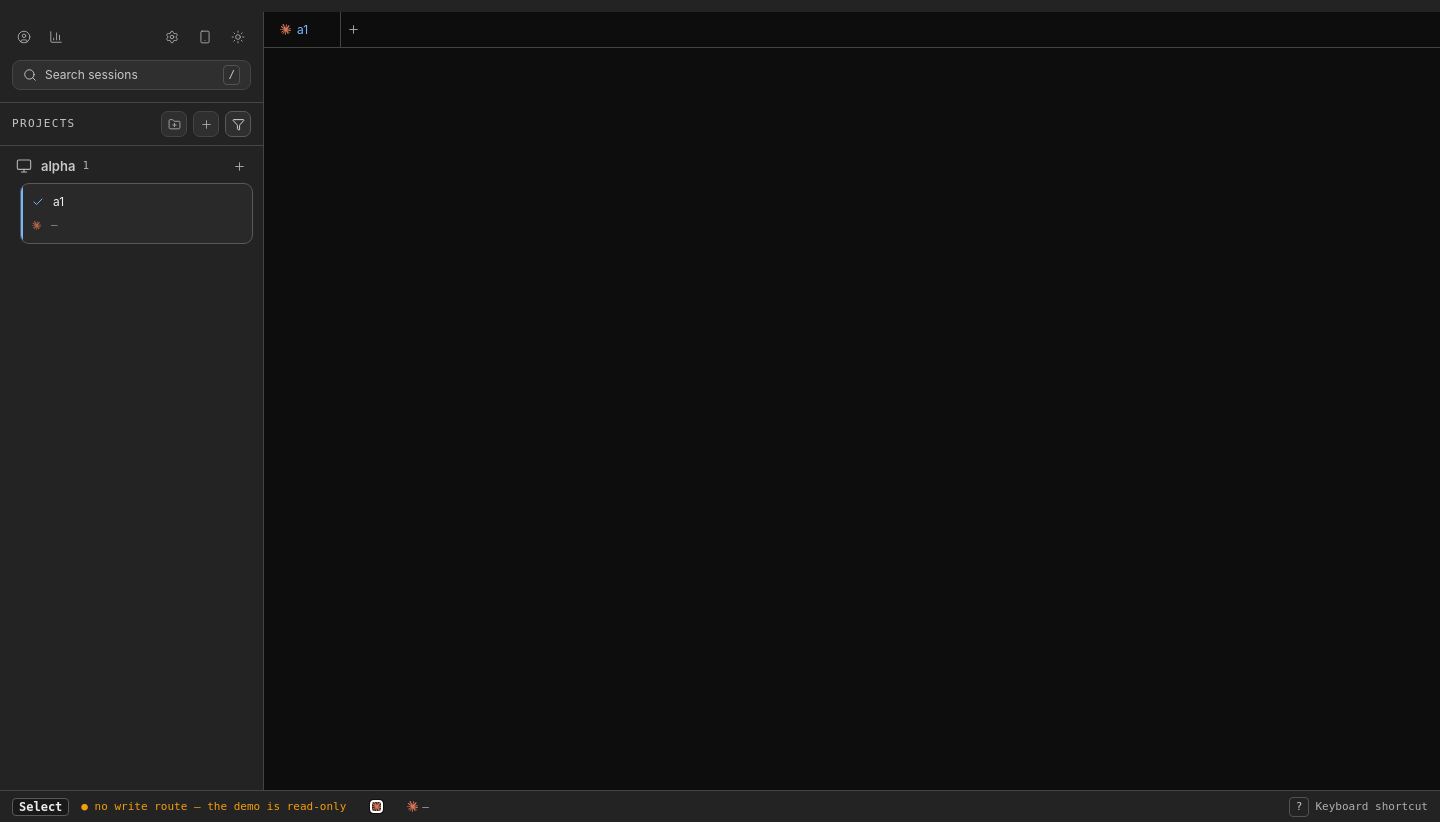
a note nobody can focus is a note nobody can read › gives the source glyph one too
Focus the picture named "source: claude-code" at (377, 806), box [371,801,382,812]
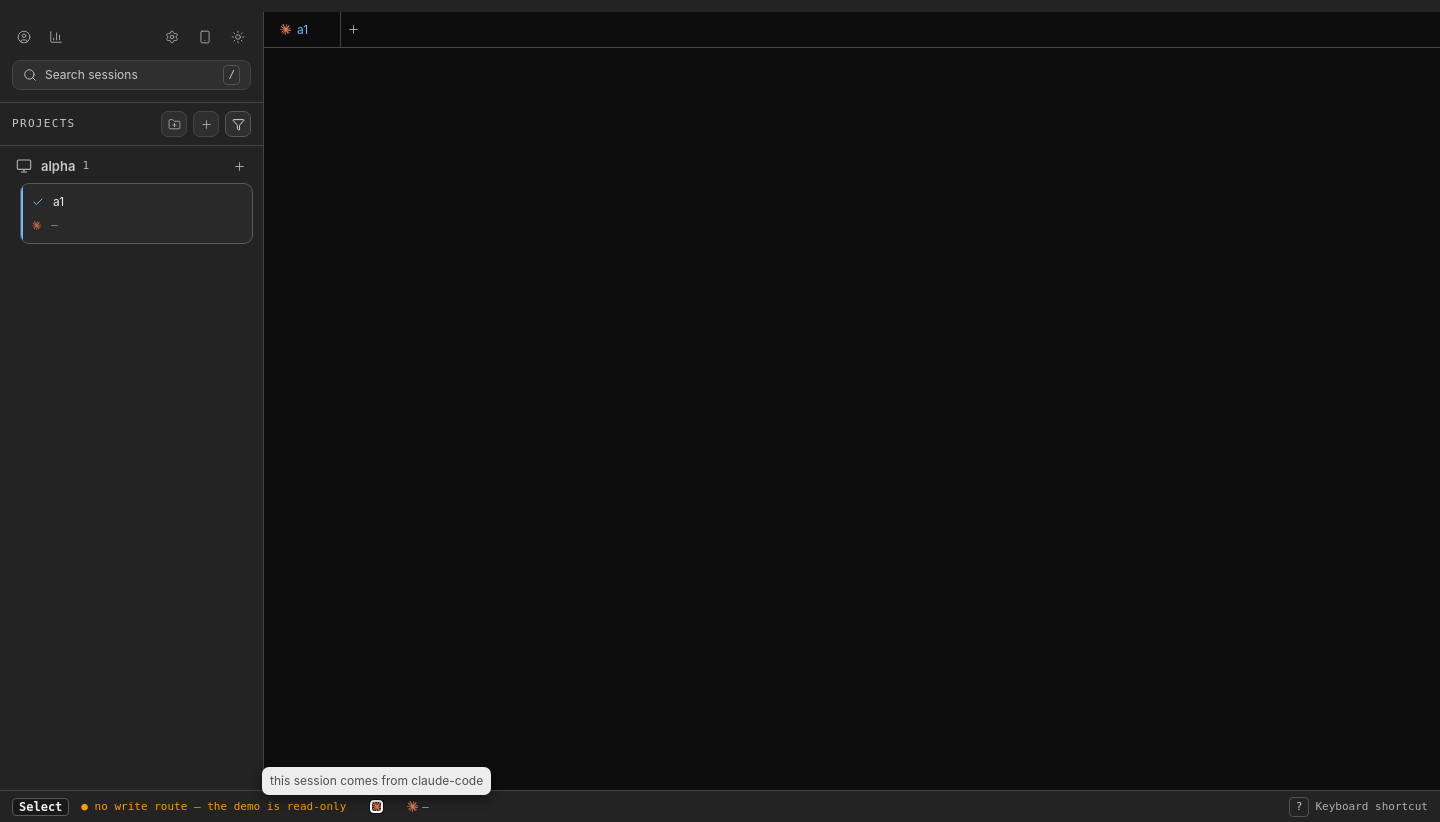
expect the tooltip "this session comes from claude-code" is shown: met, box [262,767,491,795]
